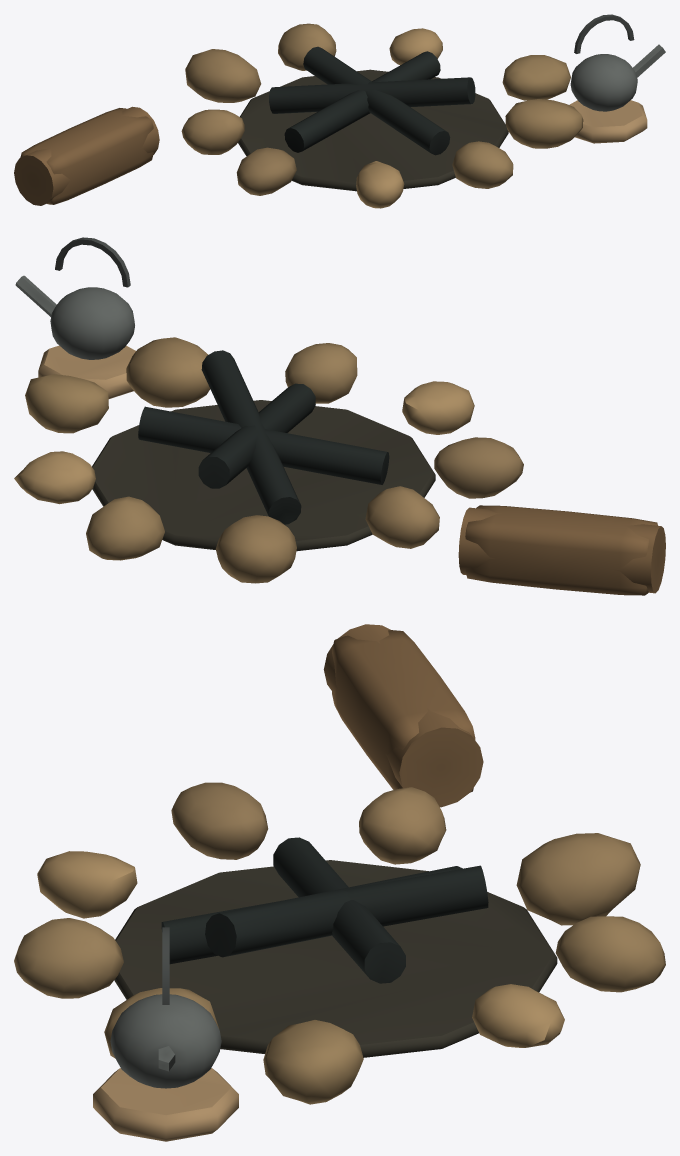
File: crew_campfire_a.glb
The picture shows the model from 3 angles, top to bottom: view 1: azimuth 30°, elevation 25°; view 2: azimuth 150°, elevation 25°; view 3: azimuth 270°, elevation 25°; orthographic projection. The views are drawn at different scales.
Parts seen in each view (by area): view 1: Surface; view 2: Surface; view 3: Surface.
Part boxes in pixels (x1,y1,x2,y2): Surface: [14, 14, 665, 208]; Surface: [14, 237, 665, 595]; Surface: [14, 624, 665, 1141].
Bounding box in the file's own units: 2.98 × 0.5723 × 1.78.
